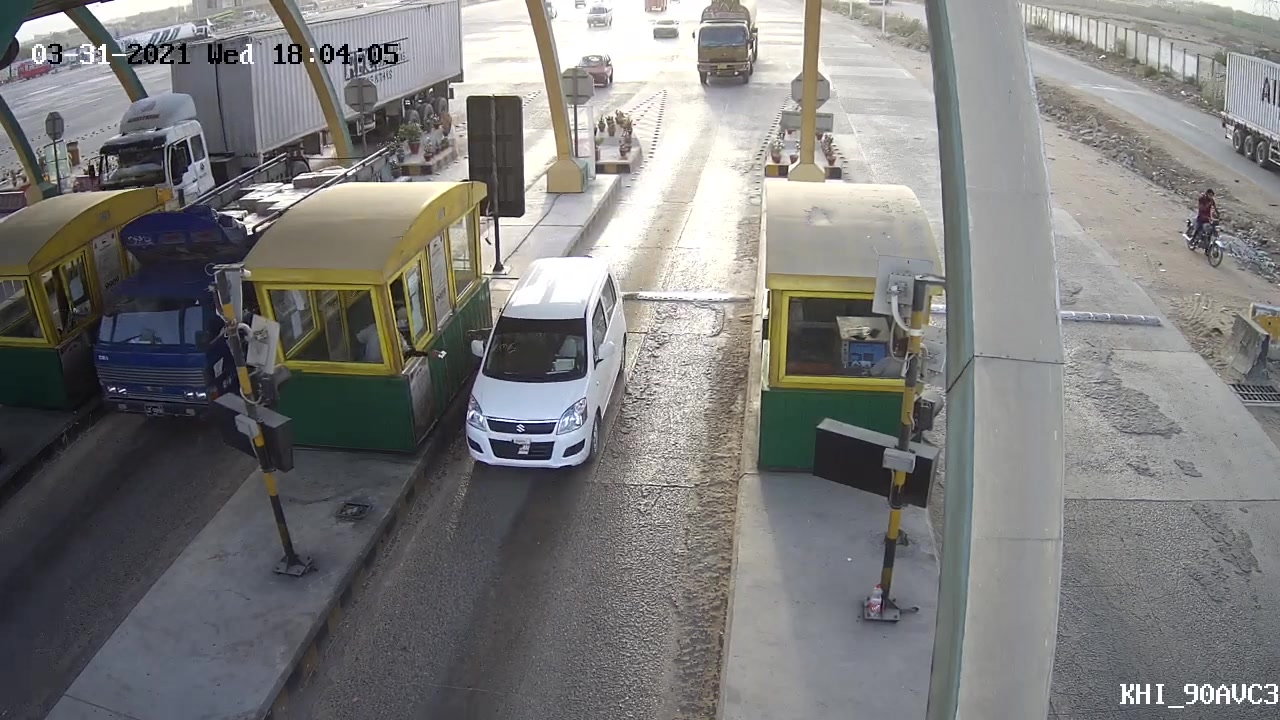F1: (455, 255, 631, 479)
